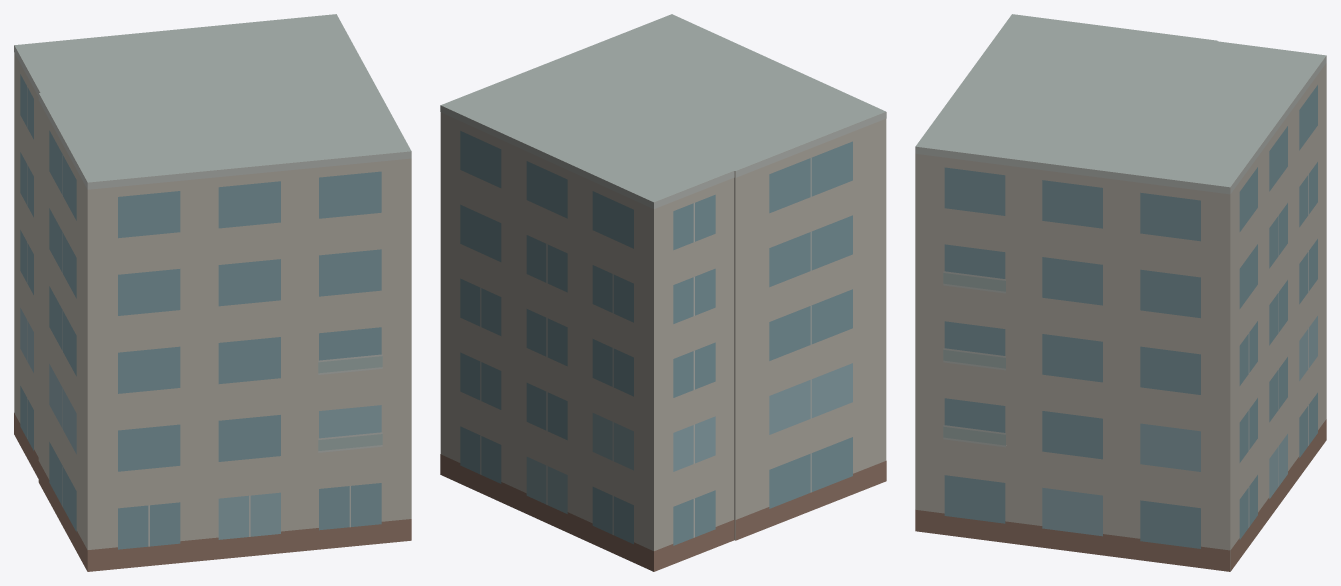
The model's file is survey-upis-32995801.glb.
The picture shows the model from 3 angles, left to right: view 1: azimuth 30°, elevation 25°; view 2: azimuth 150°, elevation 25°; view 3: azimuth 270°, elevation 25°; orthographic projection. The views are drawn at different scales.
Visible parts, largest first — view 1: survey-upis-32995801.tmp; view 2: survey-upis-32995801.tmp; view 3: survey-upis-32995801.tmp.
Part boxes in pixels (bbox=[...]): survey-upis-32995801.tmp: bbox=[14, 14, 411, 571]; survey-upis-32995801.tmp: bbox=[440, 14, 886, 571]; survey-upis-32995801.tmp: bbox=[915, 14, 1326, 571].
Bounding box in the file's own units: 12.77 × 13.2 × 12.8.
